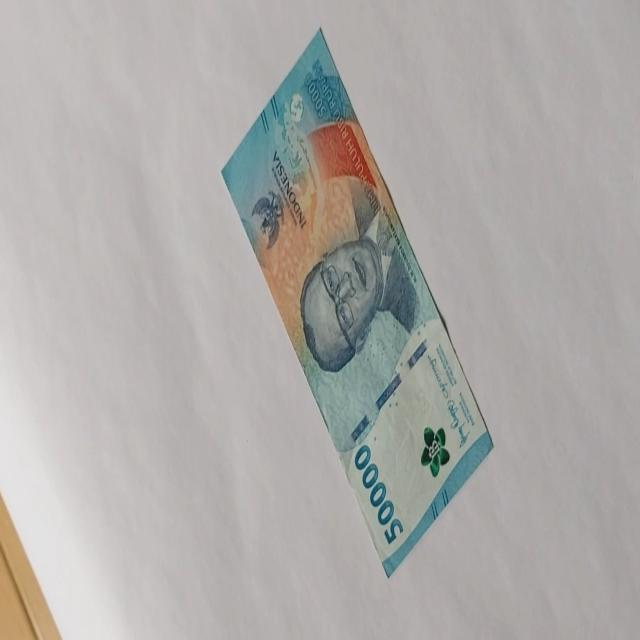lima puluh ribu rupiah: (220, 25, 494, 578), (352, 442, 404, 546)
